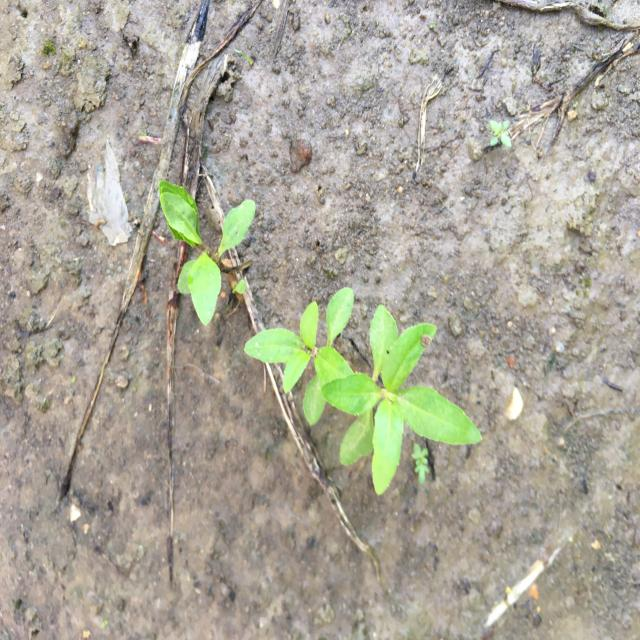Eclipta: (242, 284, 484, 498), (156, 179, 258, 329)
